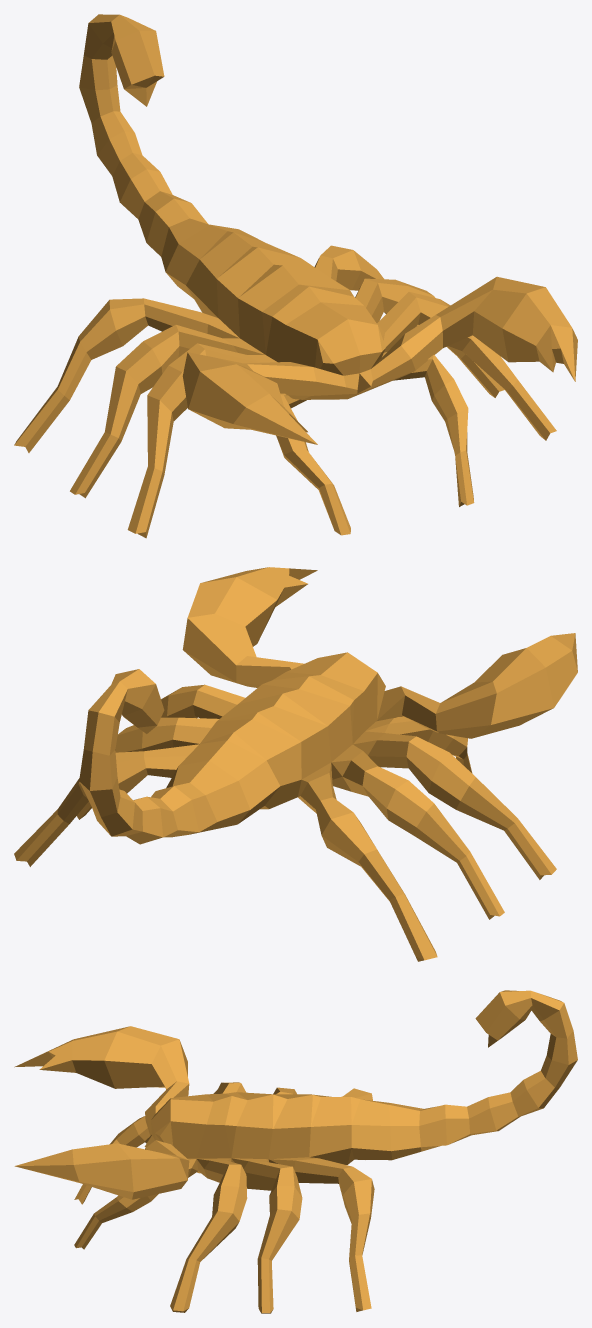
Rendered from scorpion.fbx.
The picture shows the model from 3 angles, top to bottom: view 1: azimuth 30°, elevation 25°; view 2: azimuth 150°, elevation 25°; view 3: azimuth 270°, elevation 25°; orthographic projection. The views are drawn at different scales.
Parts seen in each view (by area): view 1: scorpion; view 2: scorpion; view 3: scorpion.
Boxes of the visible parts, x1,y1,x2,y2 form: scorpion: [14, 14, 577, 538]; scorpion: [14, 567, 577, 961]; scorpion: [14, 990, 577, 1313].
Size of the model in its own units: 0.2544 by 0.1751 by 0.3656.
